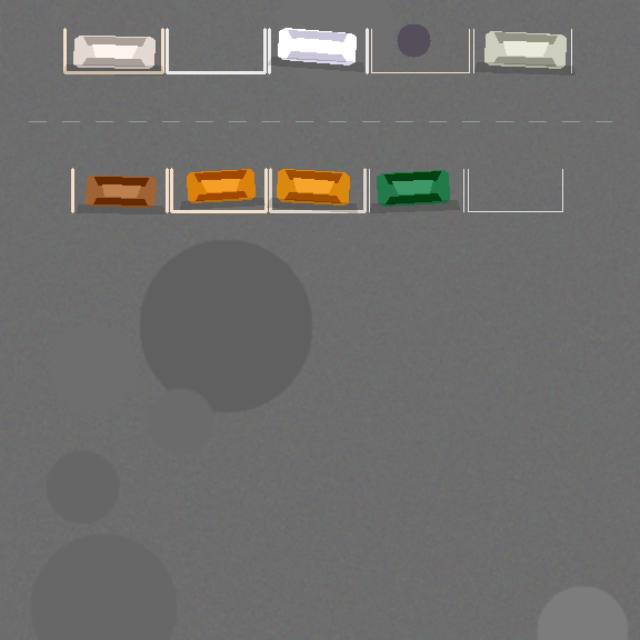space-empty: (371, 29, 469, 72), (167, 29, 264, 72), (468, 169, 562, 211)
space-occupied: (64, 29, 162, 72), (269, 29, 367, 72), (473, 29, 571, 72), (72, 169, 167, 211), (171, 169, 266, 211), (270, 169, 364, 211), (369, 169, 463, 211)
